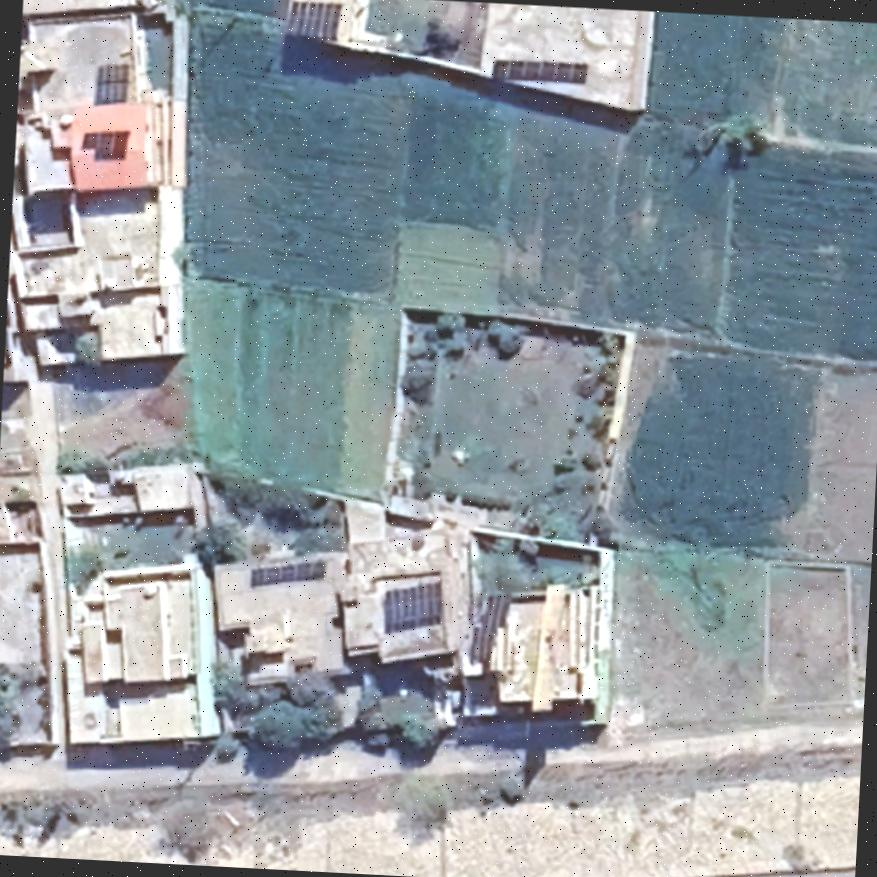Solarpanel: (486, 54, 594, 92), (465, 593, 514, 666), (280, 0, 345, 46), (382, 578, 443, 627), (247, 558, 326, 588), (89, 59, 135, 110), (76, 126, 122, 160)
